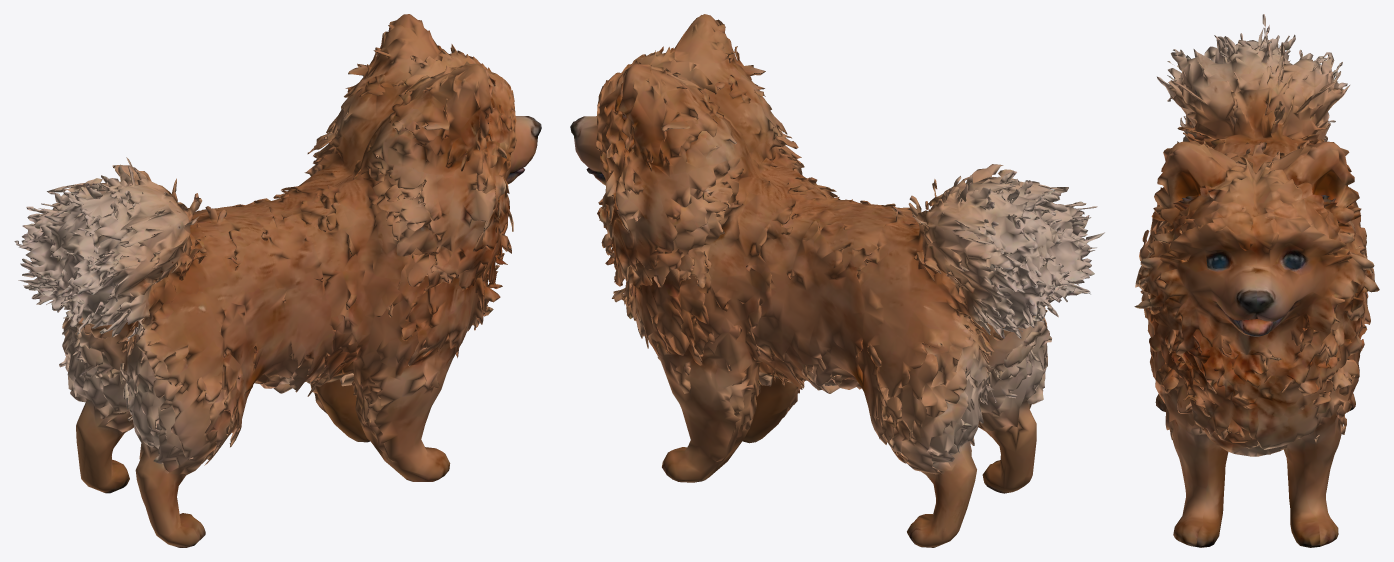
Rendered from tito.glb.
3 renders of one model, left to right at view 1: azimuth 30°, elevation 25°; view 2: azimuth 150°, elevation 25°; view 3: azimuth 270°, elevation 25°, orthographic. The views are drawn at different scales.
Parts seen in each view (by area): view 1: tripo_node_ce06b17b-edb5-40f1-9737-e8c66cfe11d0; view 2: tripo_node_ce06b17b-edb5-40f1-9737-e8c66cfe11d0; view 3: tripo_node_ce06b17b-edb5-40f1-9737-e8c66cfe11d0.
Part boxes in pixels (left/top/right/bottom): tripo_node_ce06b17b-edb5-40f1-9737-e8c66cfe11d0: left=14, top=14, right=541, bottom=547; tripo_node_ce06b17b-edb5-40f1-9737-e8c66cfe11d0: left=570, top=14, right=1104, bottom=547; tripo_node_ce06b17b-edb5-40f1-9737-e8c66cfe11d0: left=1134, top=14, right=1379, bottom=547.
Size of the model in its own units: 0.999 by 0.7657 by 0.4038.
1 material, 1 textured.
